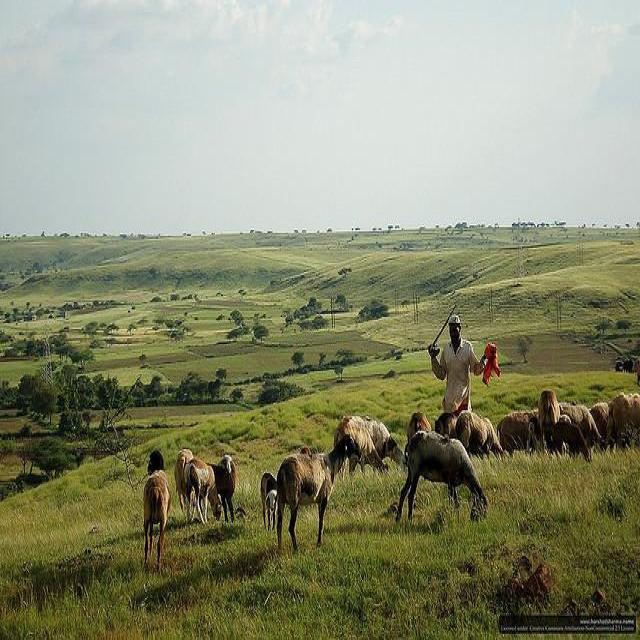Sheep: (403, 383, 639, 469), (274, 434, 363, 554), (395, 430, 489, 527), (335, 416, 388, 478), (456, 410, 505, 463), (184, 460, 223, 526), (363, 418, 407, 474), (561, 404, 605, 454)
